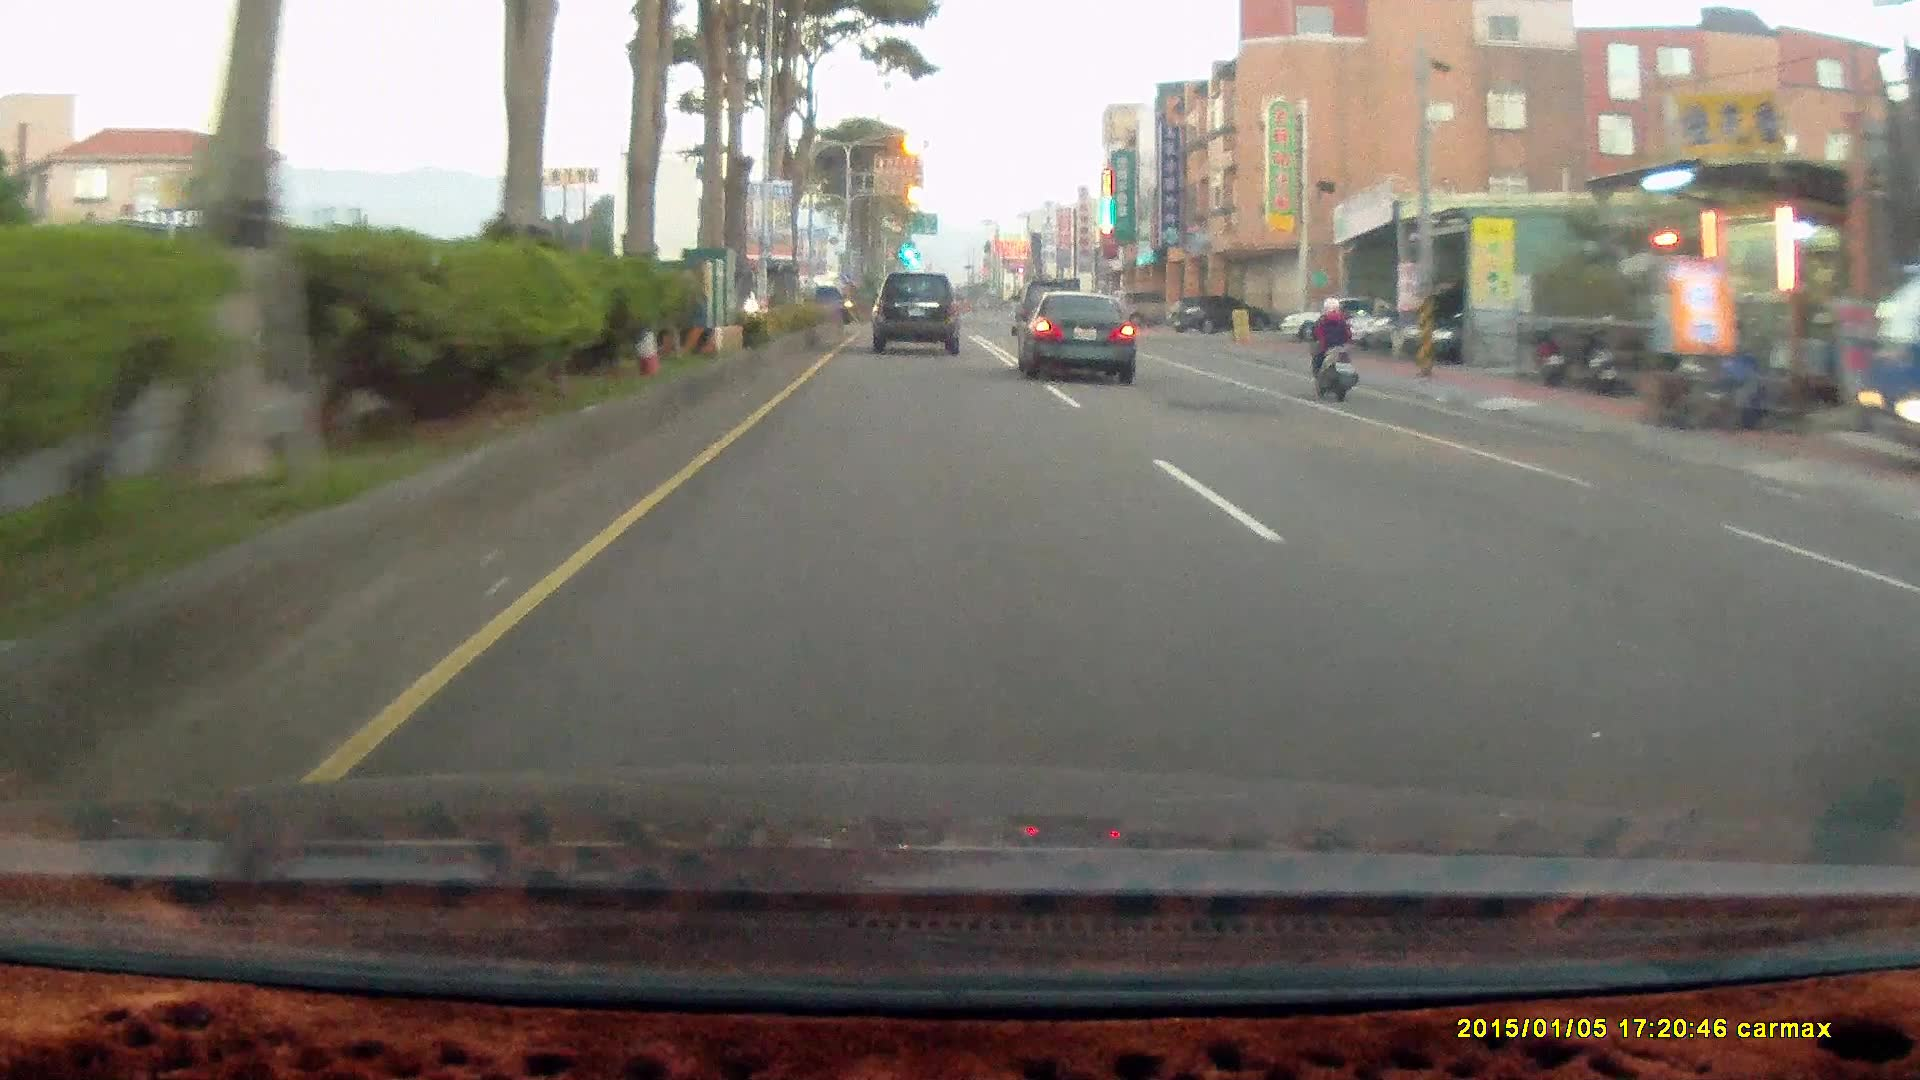rider: (1294, 286, 1369, 410), (1300, 291, 1358, 398)
vehicle: (1854, 258, 1920, 465), (1021, 292, 1143, 388), (1012, 290, 1133, 383), (1417, 297, 1555, 364), (872, 270, 964, 357), (869, 272, 960, 356), (1279, 295, 1408, 345), (1172, 295, 1268, 340), (1164, 294, 1266, 335), (1113, 289, 1188, 327)
